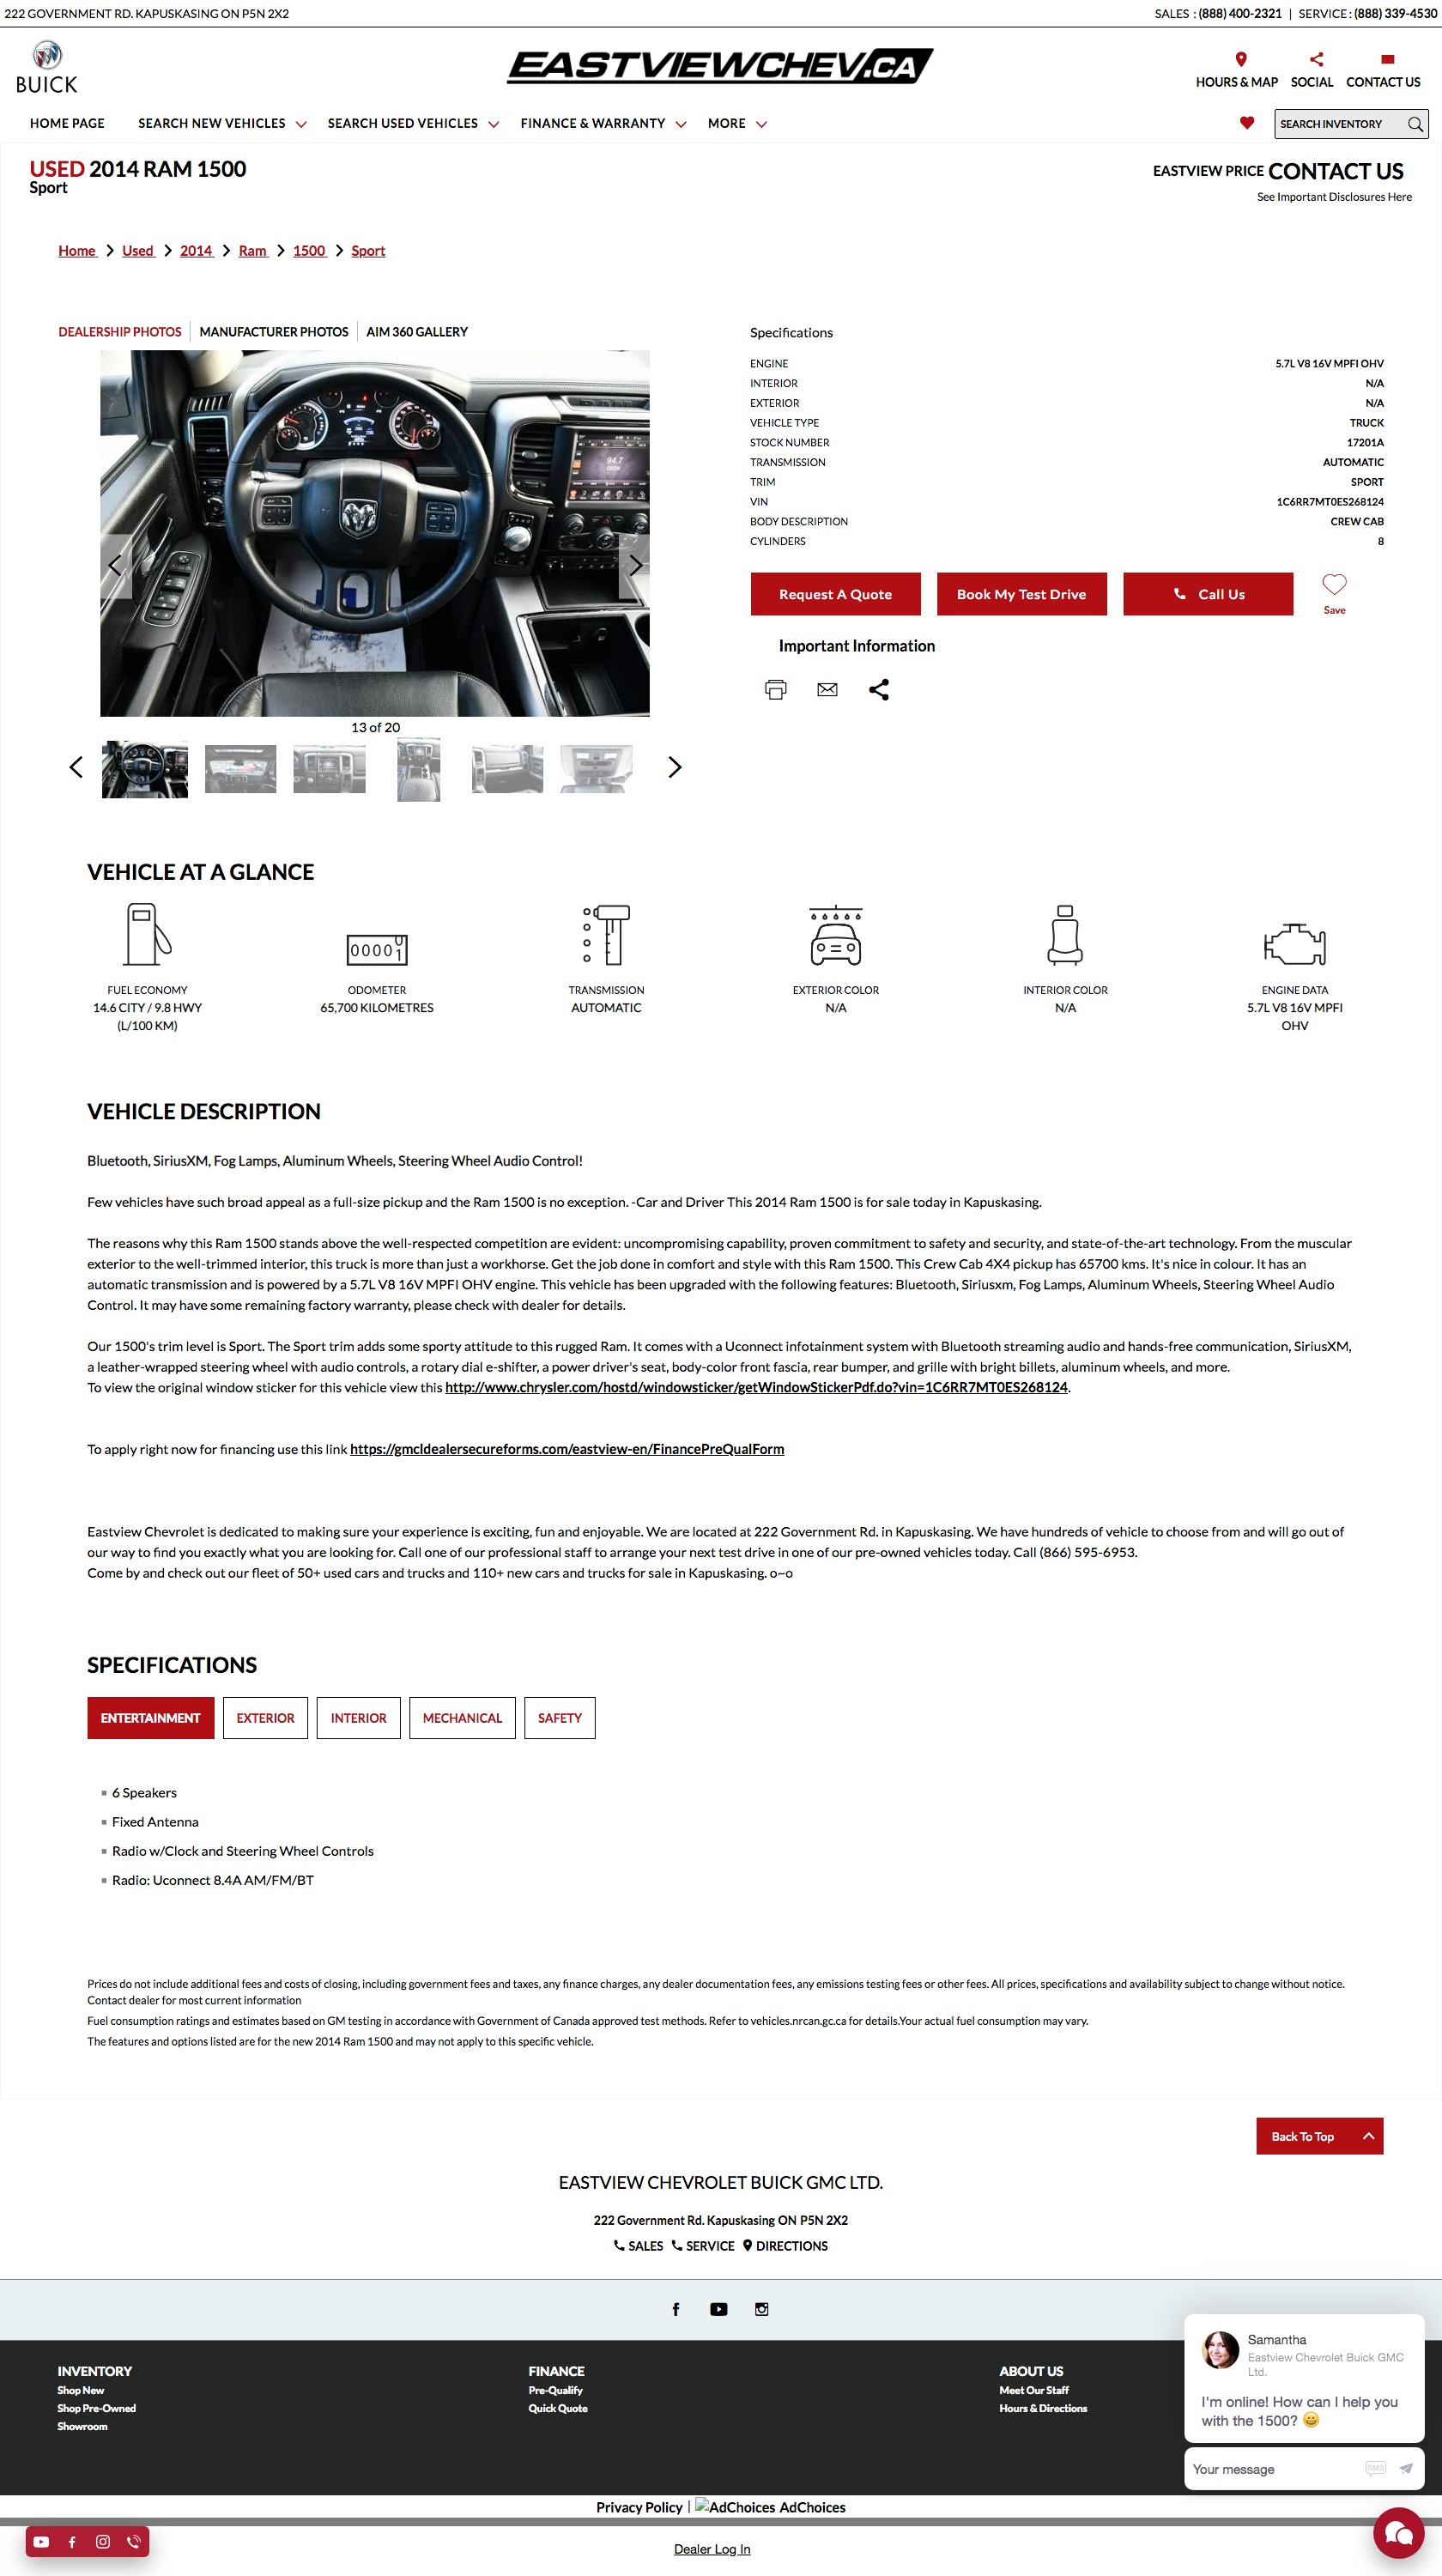car: (669, 755, 683, 780)
